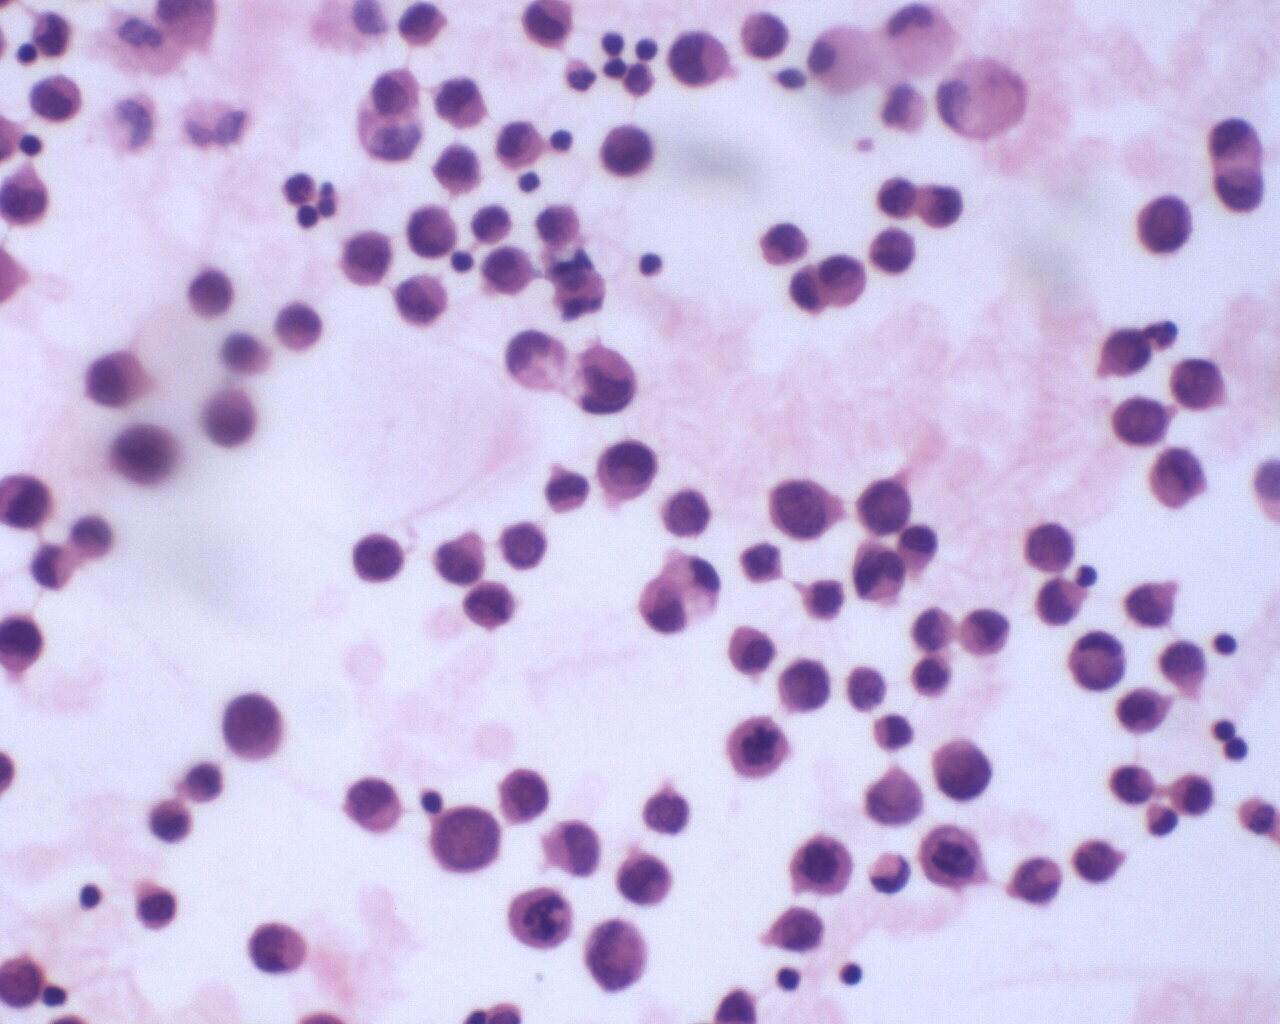ab: (915, 822, 990, 894), (582, 916, 650, 995), (723, 714, 797, 785), (503, 883, 575, 955), (427, 805, 501, 876), (768, 473, 838, 545), (785, 829, 851, 904), (222, 689, 285, 766), (664, 25, 734, 95), (853, 474, 921, 545), (927, 735, 995, 804), (345, 771, 408, 841), (246, 916, 311, 979), (1135, 192, 1194, 260), (1170, 356, 1233, 418), (348, 528, 408, 587), (1017, 519, 1076, 578), (765, 901, 829, 955), (496, 765, 551, 828), (393, 274, 457, 327), (615, 850, 672, 909), (340, 230, 396, 289), (1108, 390, 1168, 445), (461, 575, 520, 630), (403, 203, 457, 264), (722, 623, 781, 678), (1, 608, 46, 680), (429, 75, 489, 129), (779, 654, 832, 715), (598, 124, 657, 177), (480, 245, 536, 299), (184, 269, 241, 322), (1107, 758, 1161, 813), (435, 533, 491, 586), (1115, 685, 1172, 738), (662, 487, 717, 541), (26, 73, 85, 123), (866, 224, 920, 278), (430, 142, 483, 197), (1094, 328, 1150, 378), (1, 169, 50, 227), (1, 955, 49, 1014), (740, 11, 792, 65), (495, 119, 546, 173), (499, 517, 549, 572), (394, 1, 449, 48), (1066, 836, 1120, 883), (134, 881, 181, 934), (759, 222, 813, 267), (738, 540, 785, 591), (800, 577, 848, 625)
histo: (932, 56, 1027, 144), (884, 2, 965, 82), (806, 23, 881, 98)
lymph: (636, 248, 668, 281), (1208, 631, 1241, 658), (776, 964, 806, 994), (78, 883, 108, 912), (839, 960, 865, 990)
neutro: (564, 59, 600, 95)
